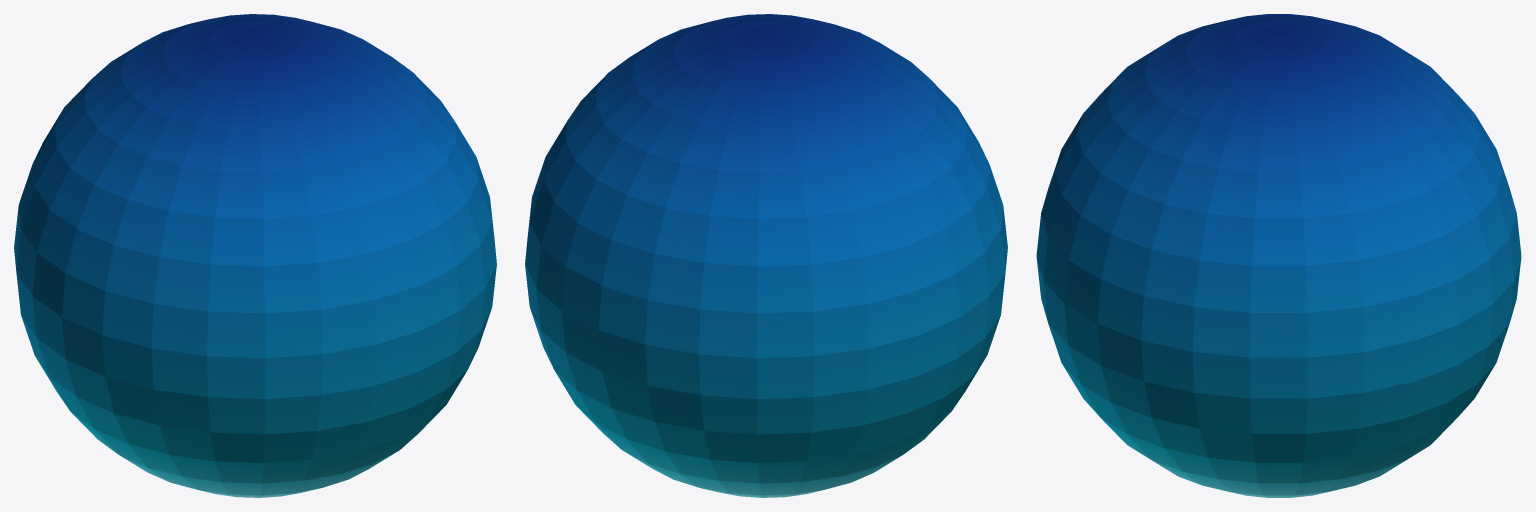
The model's file is skydome.glb.
3 renders of one model, left to right at view 1: azimuth 30°, elevation 25°; view 2: azimuth 150°, elevation 25°; view 3: azimuth 270°, elevation 25°, orthographic.
Parts seen in each view (by area): view 1: Skydome; view 2: Skydome; view 3: Skydome.
Part boxes in pixels (box(x1,y1,x2,y2)): Skydome: box(14, 14, 496, 497); Skydome: box(525, 14, 1007, 497); Skydome: box(1036, 14, 1521, 497).
Size of the model in its own units: 496 by 500 by 500.
Materials: 1 (1 with a texture image).
